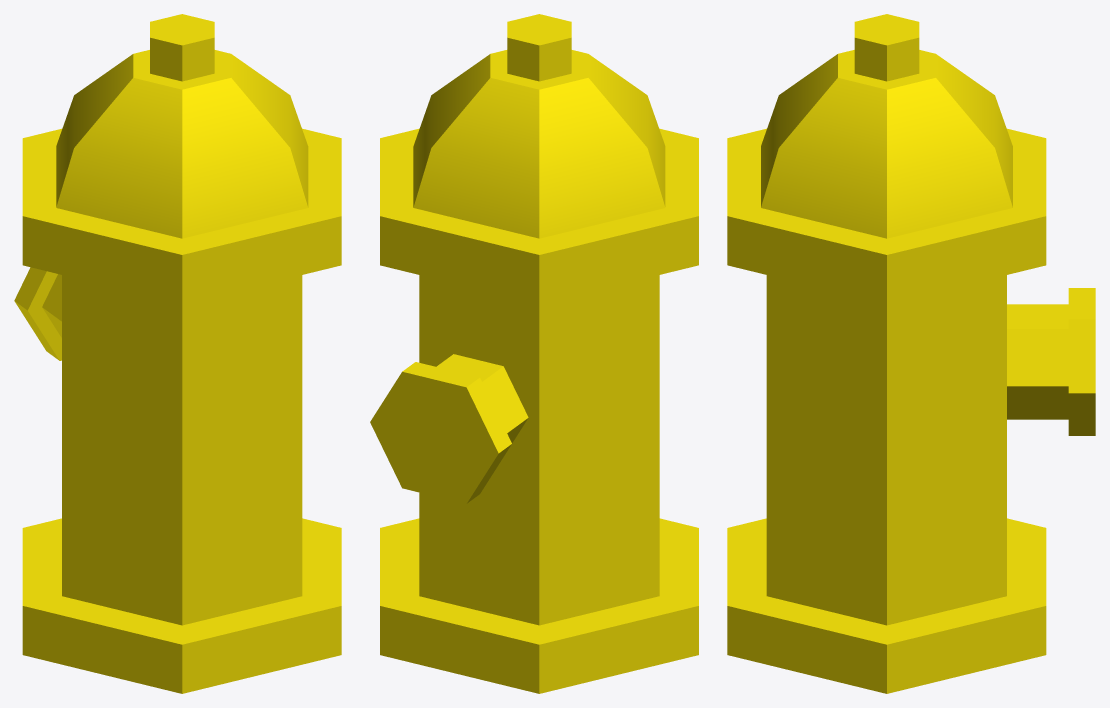
File: env_fireHydrant.fbx
3 renders of one model, left to right at view 1: azimuth 30°, elevation 25°; view 2: azimuth 150°, elevation 25°; view 3: azimuth 270°, elevation 25°, orthographic.
Visible parts, largest first — view 1: firehydrant; view 2: firehydrant; view 3: firehydrant.
Part boxes in pixels (x1,y1,x2,y2): firehydrant: (14,14,341,693); firehydrant: (370,14,698,693); firehydrant: (727,14,1095,693).
Size of the model in its own units: 14.15 by 24.85 by 14.14.
